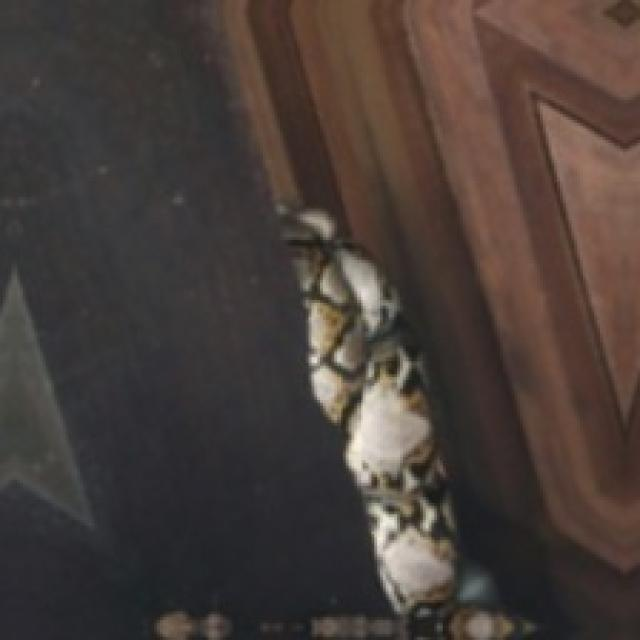reticulated python: (280, 209, 531, 637)
